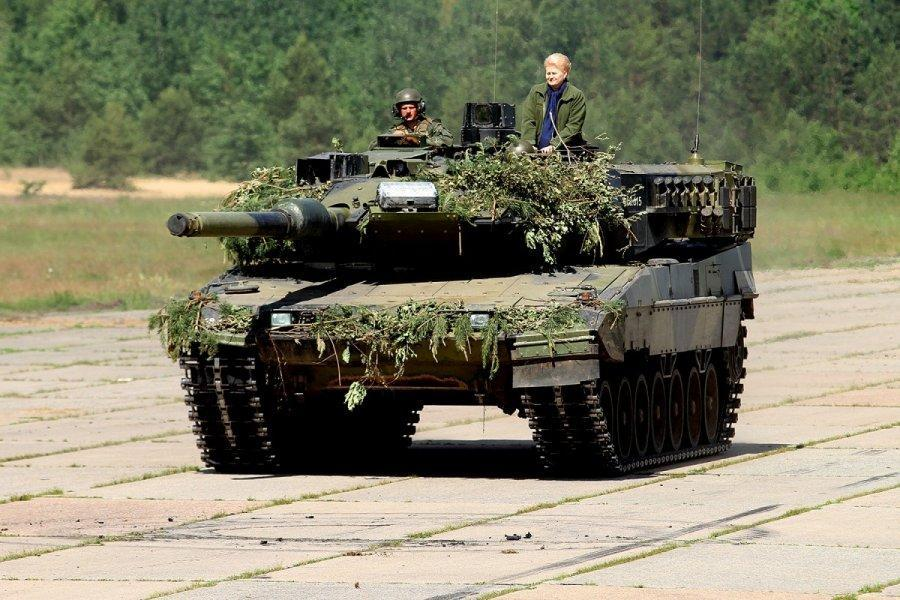person: (520, 51, 591, 148), (381, 91, 458, 146)
tank: (159, 100, 764, 479)
